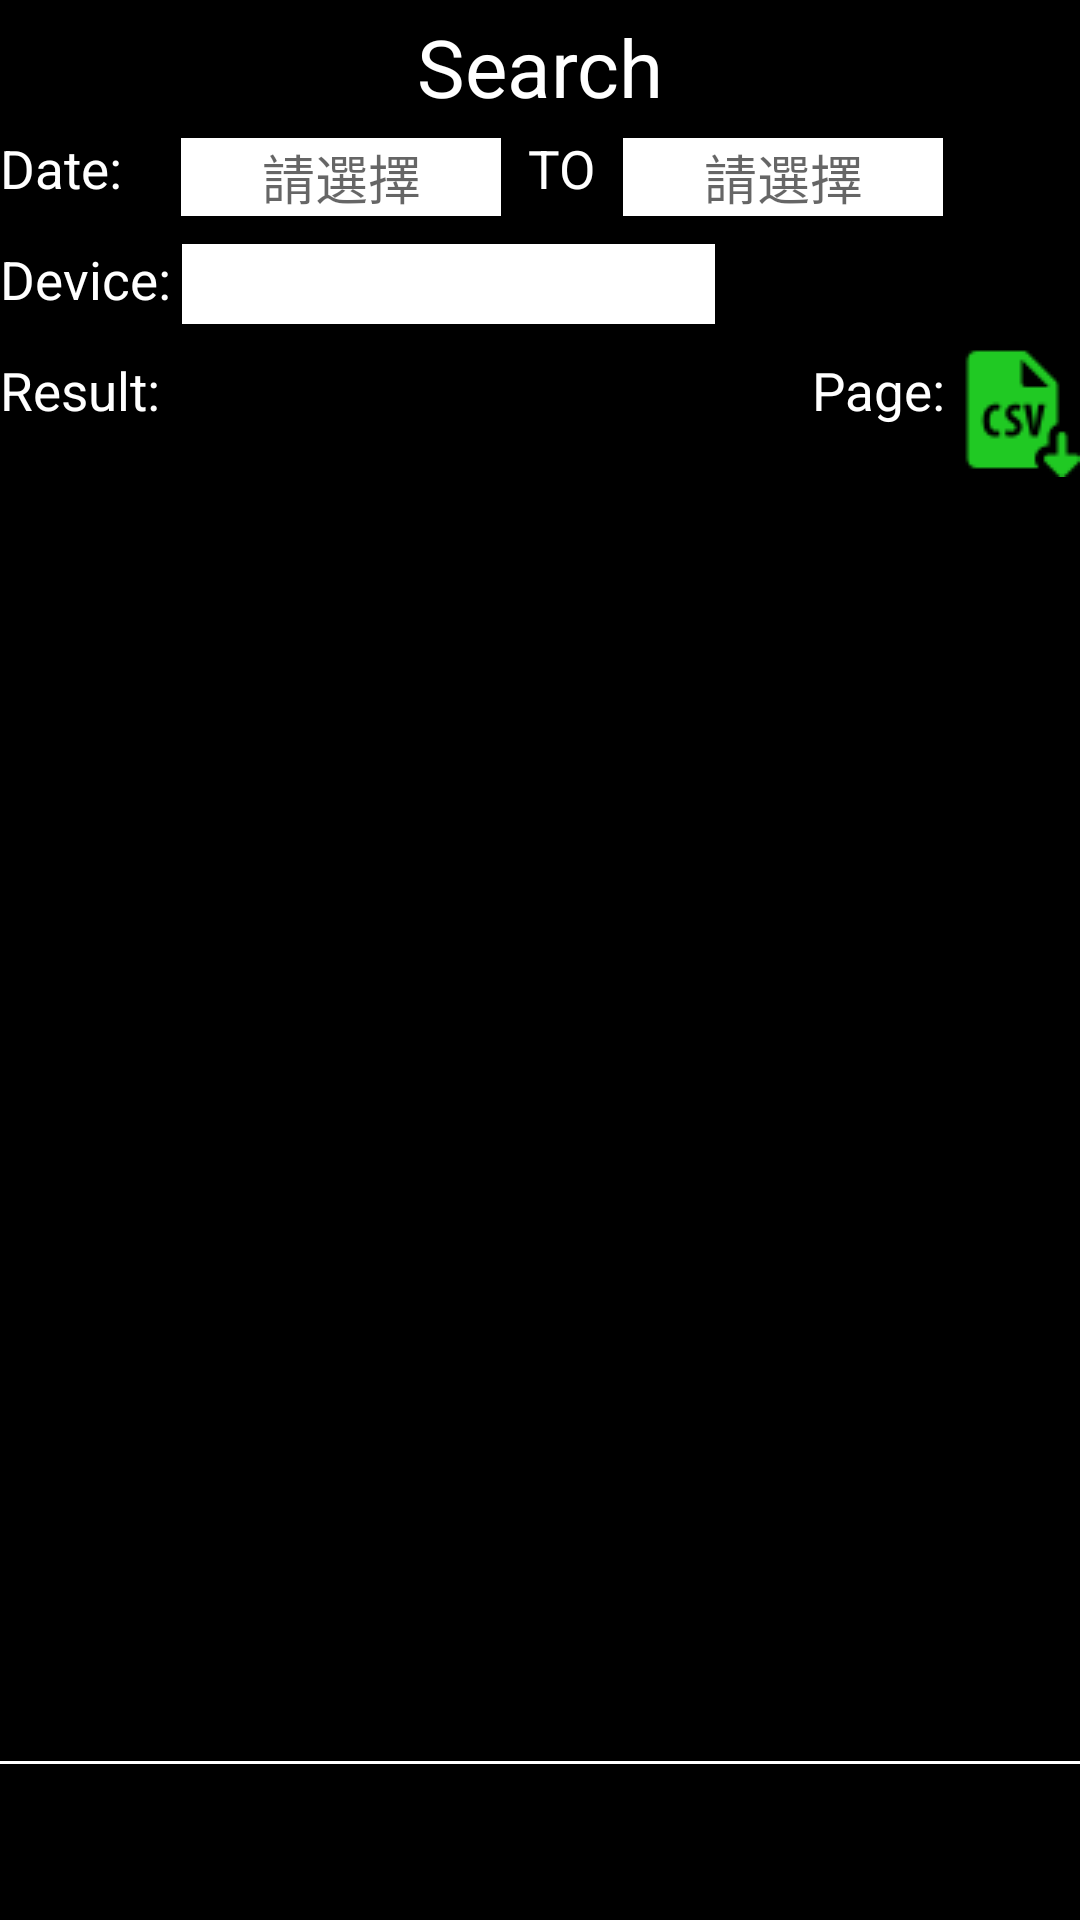

Named icons in this screenshot (1080w x 1920h) and their bounding boxes, (x1, y1, x2, y2):
export: (965, 350, 1080, 477)
